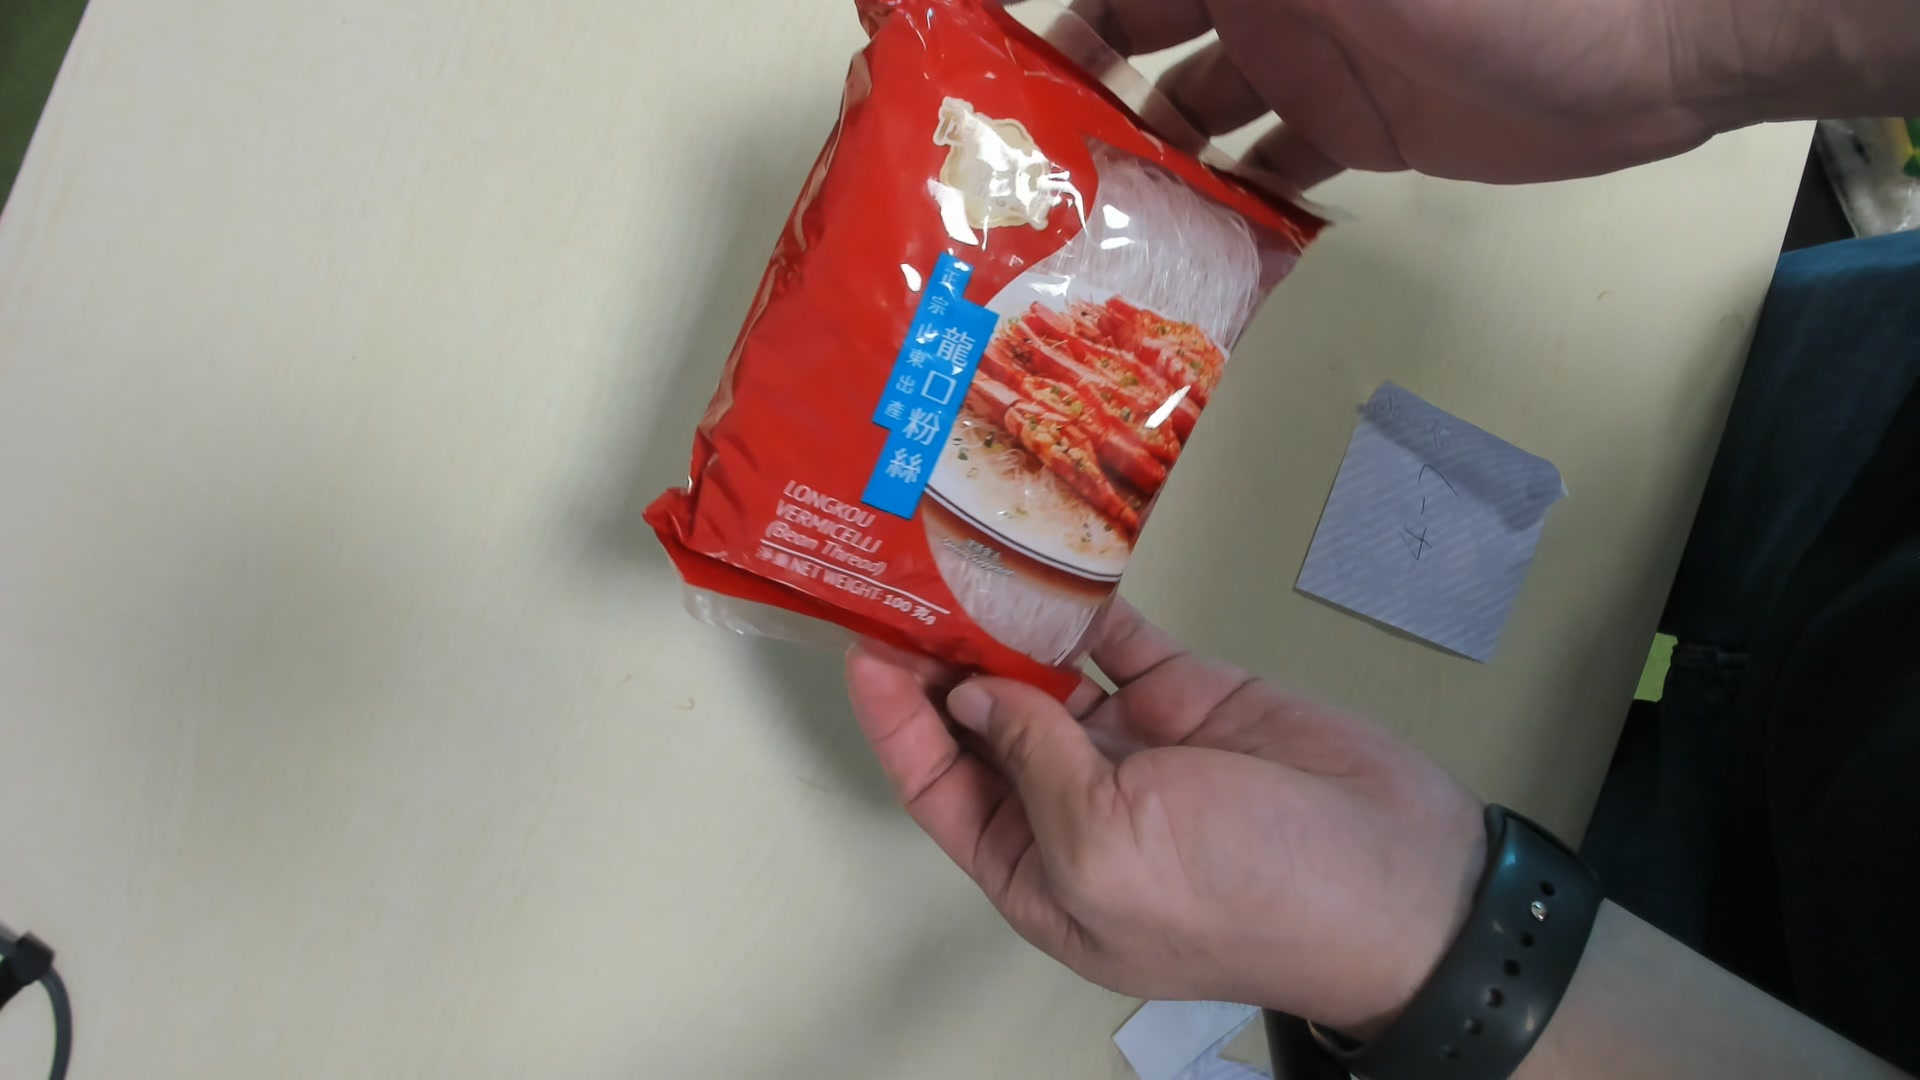BeeHoonVermicelli_100-199g_NonHalal_NonHealthy: (674, 9, 1325, 703)
